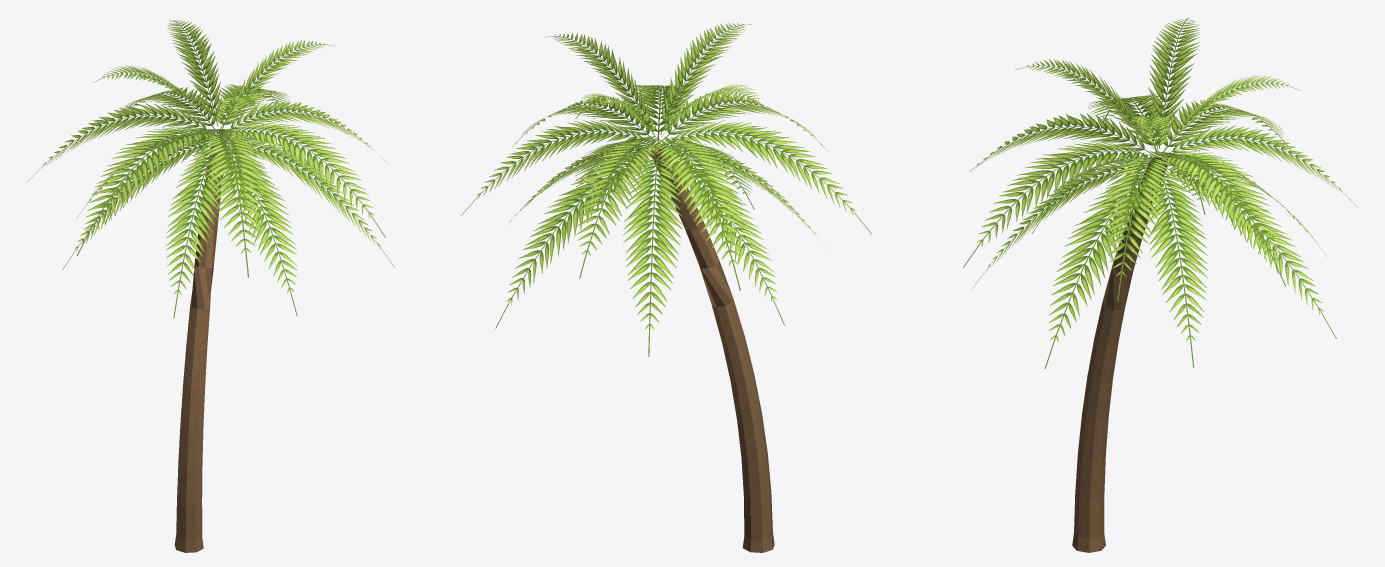
File: palm2_b.glb
The picture shows the model from 3 angles, left to right: view 1: azimuth 30°, elevation 25°; view 2: azimuth 150°, elevation 25°; view 3: azimuth 270°, elevation 25°; orthographic projection. The views are drawn at different scales.
Parts seen in each view (by area): view 1: palm2_b; view 2: palm2_b; view 3: palm2_b.
Part boxes in pixels (<box>): palm2_b: <box>27,19,394,552</box>; palm2_b: <box>461,23,871,552</box>; palm2_b: <box>963,18,1357,552</box>.
Size of the model in its own units: 3.89 by 4.78 by 3.83.
Materials: 2 (2 with a texture image).
